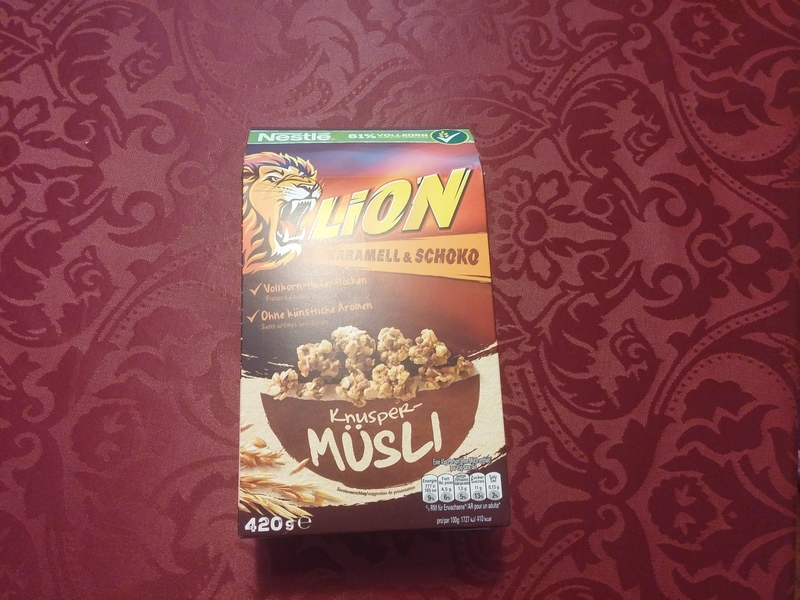cereals: (238, 125, 512, 534)
